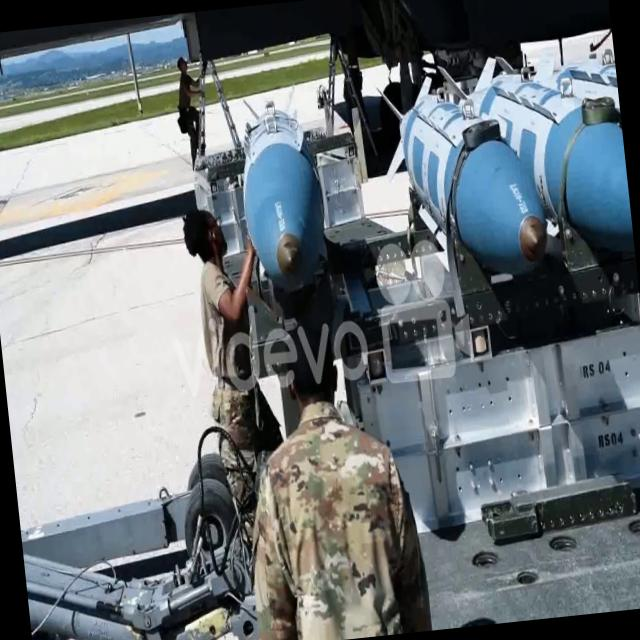rocket: (396, 66, 636, 288), (237, 95, 324, 302)
